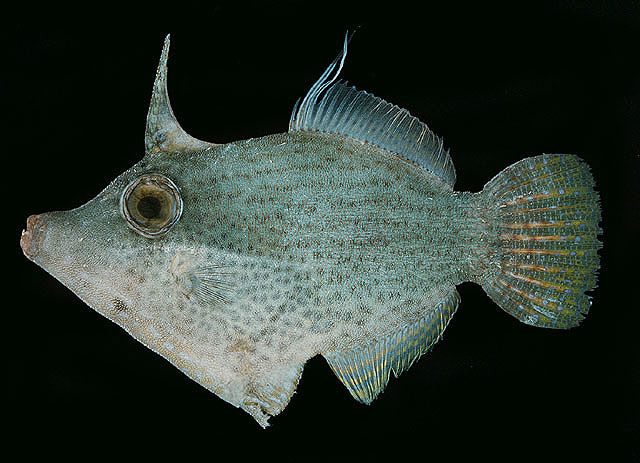fish: (18, 34, 605, 431)
